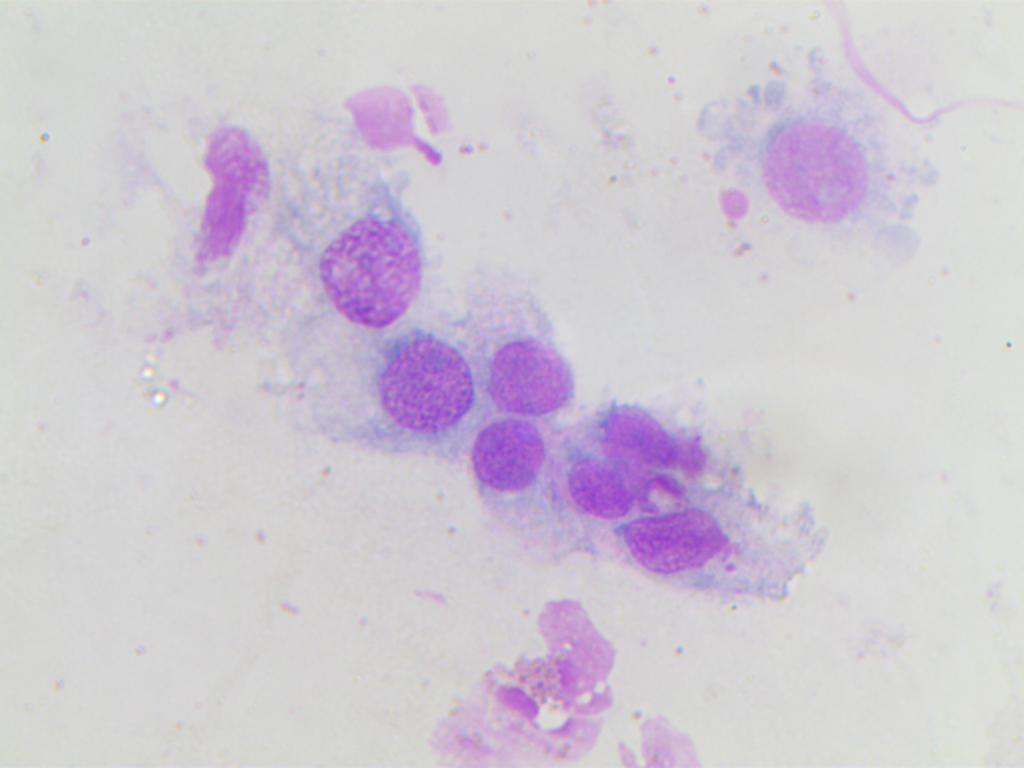artifact: (437, 583, 638, 764), (177, 116, 287, 280), (346, 60, 472, 183)
epithelial: (614, 506, 814, 578), (315, 215, 427, 329), (593, 393, 719, 494), (759, 111, 873, 222), (374, 333, 474, 434), (485, 334, 574, 417), (467, 414, 546, 494), (569, 455, 643, 526)
